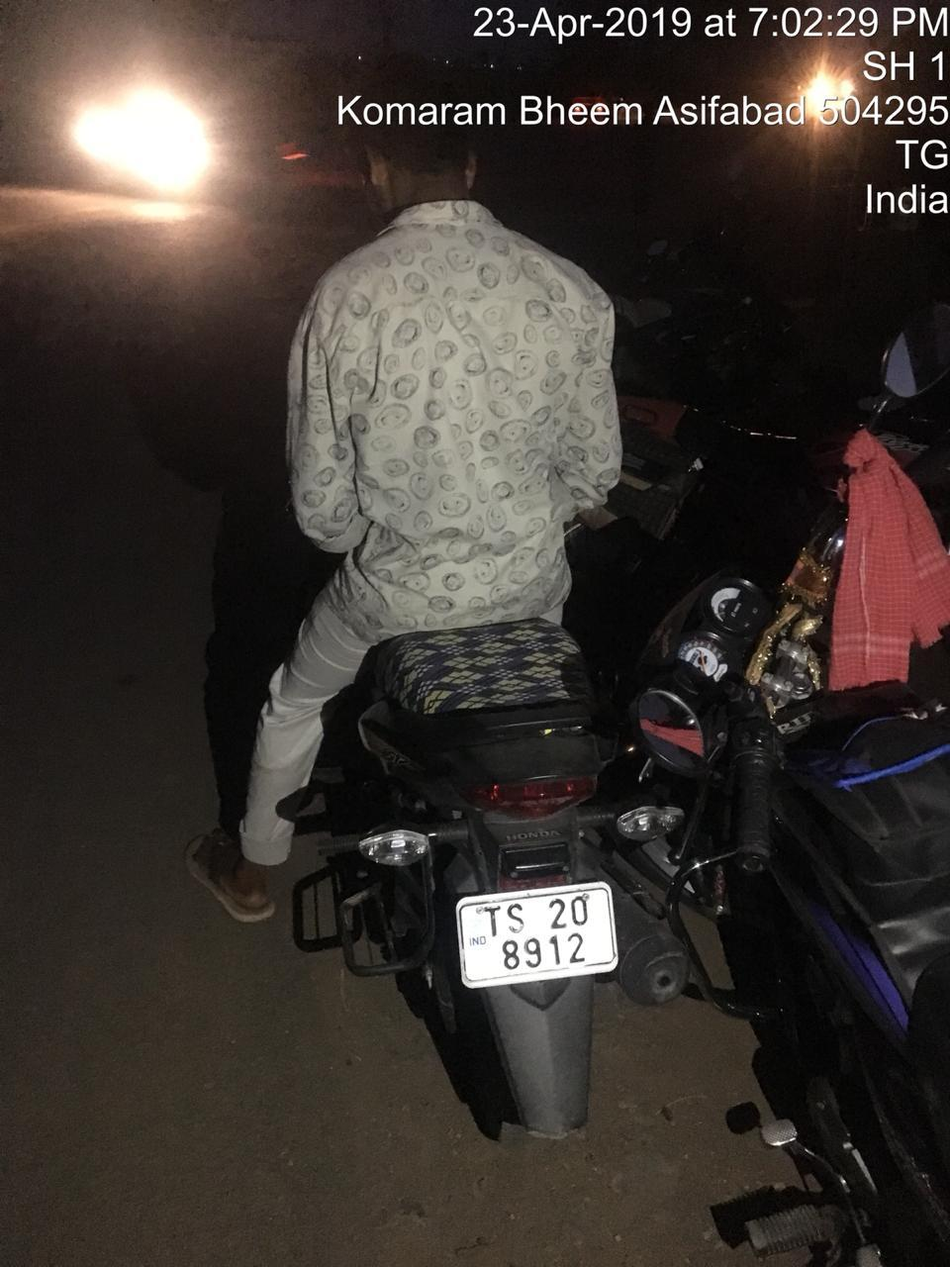plate: (429, 873, 652, 993)
